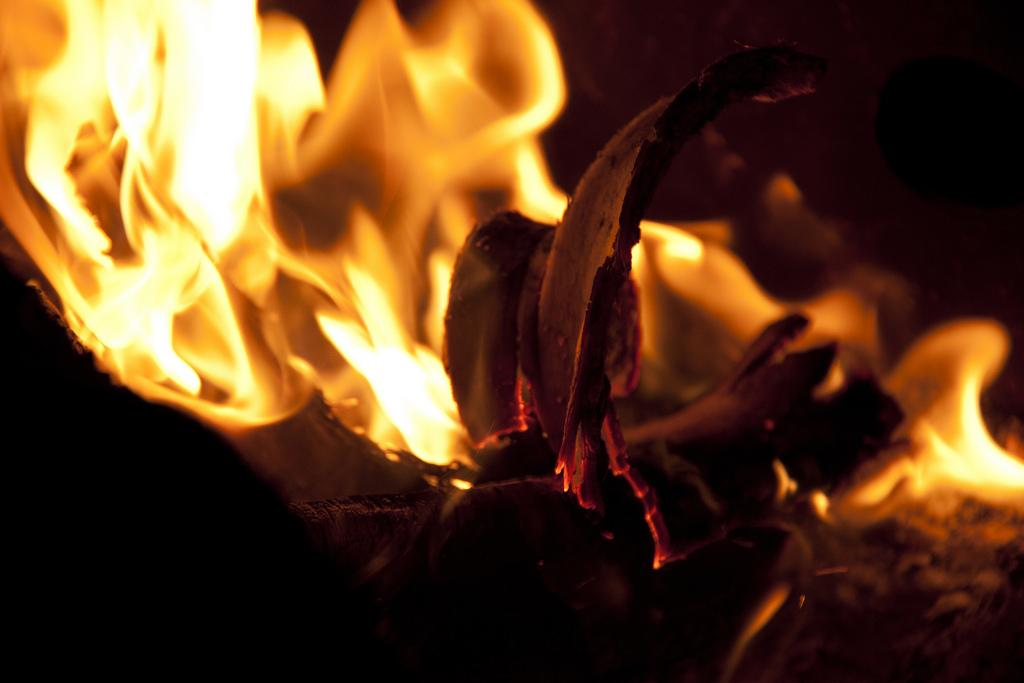fire: (47, 3, 260, 362), (357, 13, 538, 232)
